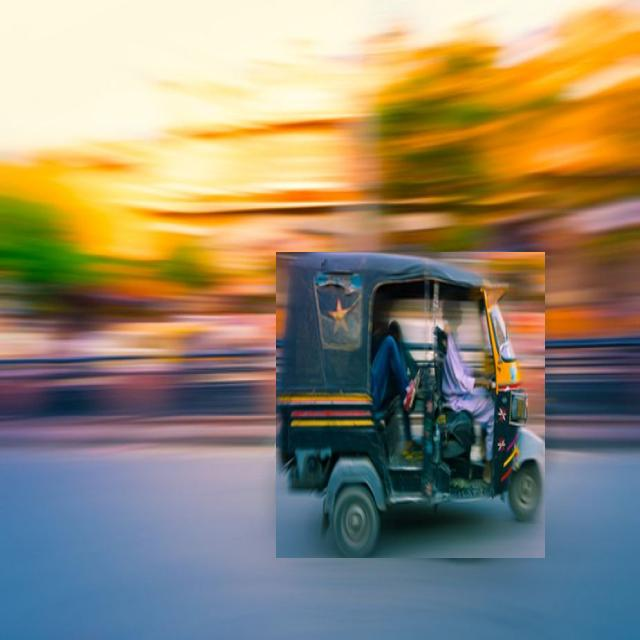autorickshaw: (276, 253, 545, 558)
